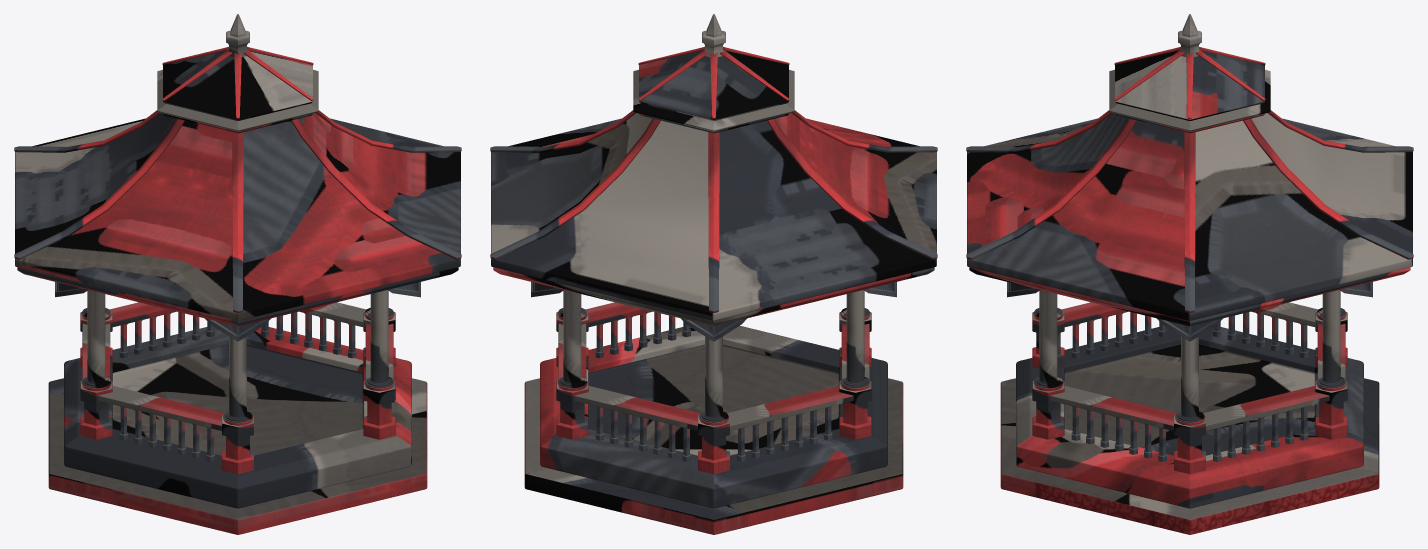
The model's file is pavilion_4.fbx.
3 views of the same model, side by side, from view 1: azimuth 30°, elevation 25°; view 2: azimuth 150°, elevation 25°; view 3: azimuth 270°, elevation 25° (orthographic).
Parts seen in each view (by area): view 1: liangting_4; view 2: liangting_4; view 3: liangting_4.
Boxes of the visible parts, x1,y1,x2,y2 form: liangting_4: (14, 14, 461, 534); liangting_4: (490, 14, 937, 534); liangting_4: (966, 14, 1413, 534).
Bounding box in the file's own units: 1479 × 1357 × 1282.
